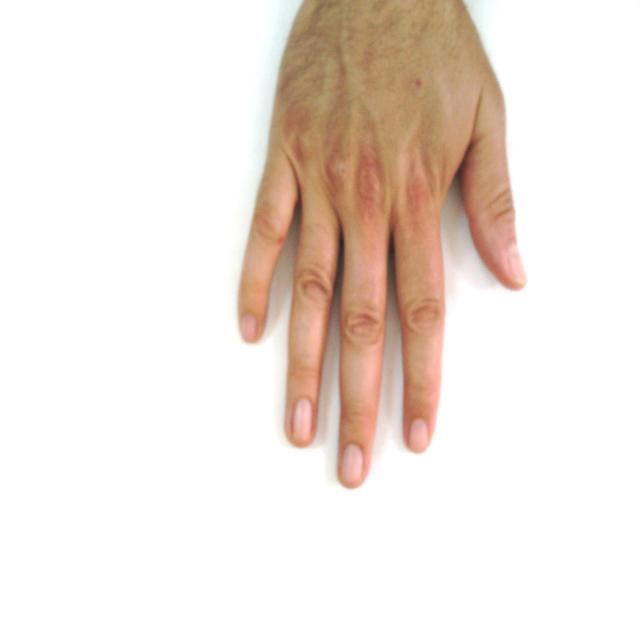Fingernail: (342, 444, 364, 484), (293, 400, 313, 442), (410, 418, 428, 453), (509, 253, 527, 281), (240, 315, 257, 340)
